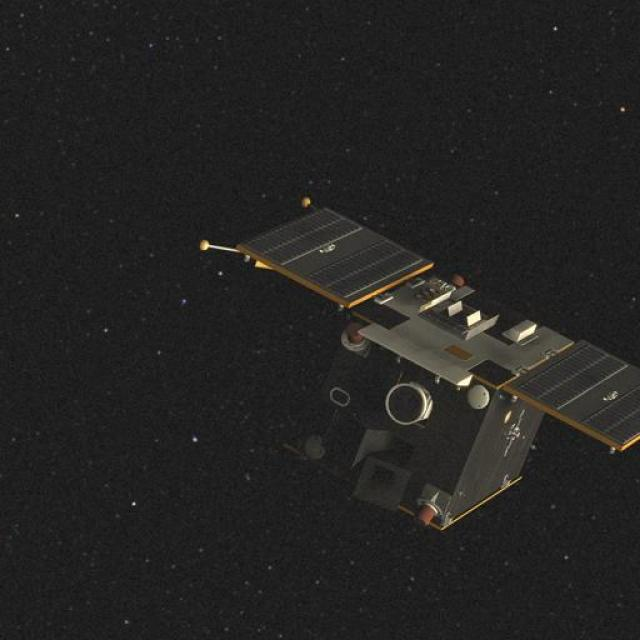proba_2: (241, 203, 640, 535)
